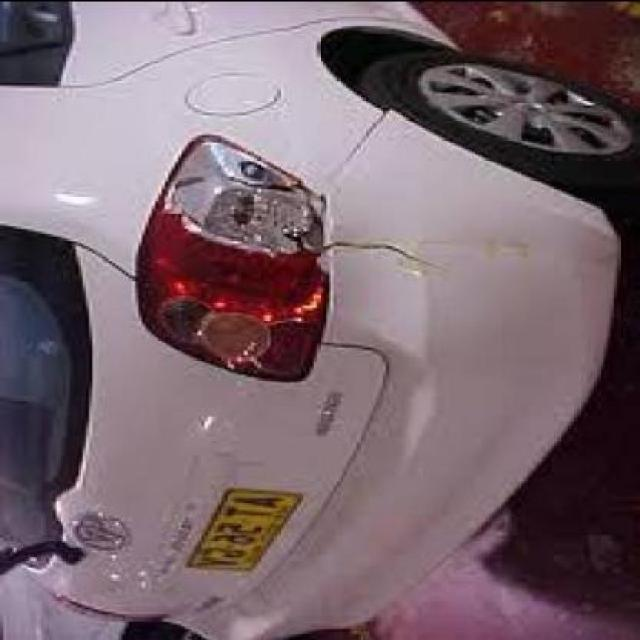damage: (158, 131, 532, 285)
